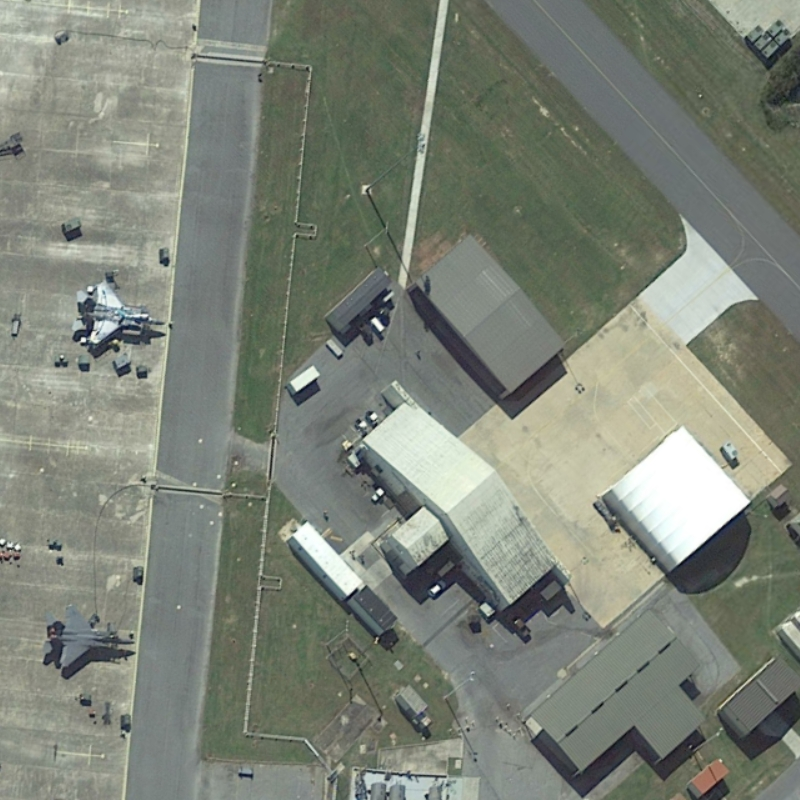A13: (37, 596, 141, 679), (65, 274, 167, 355)
